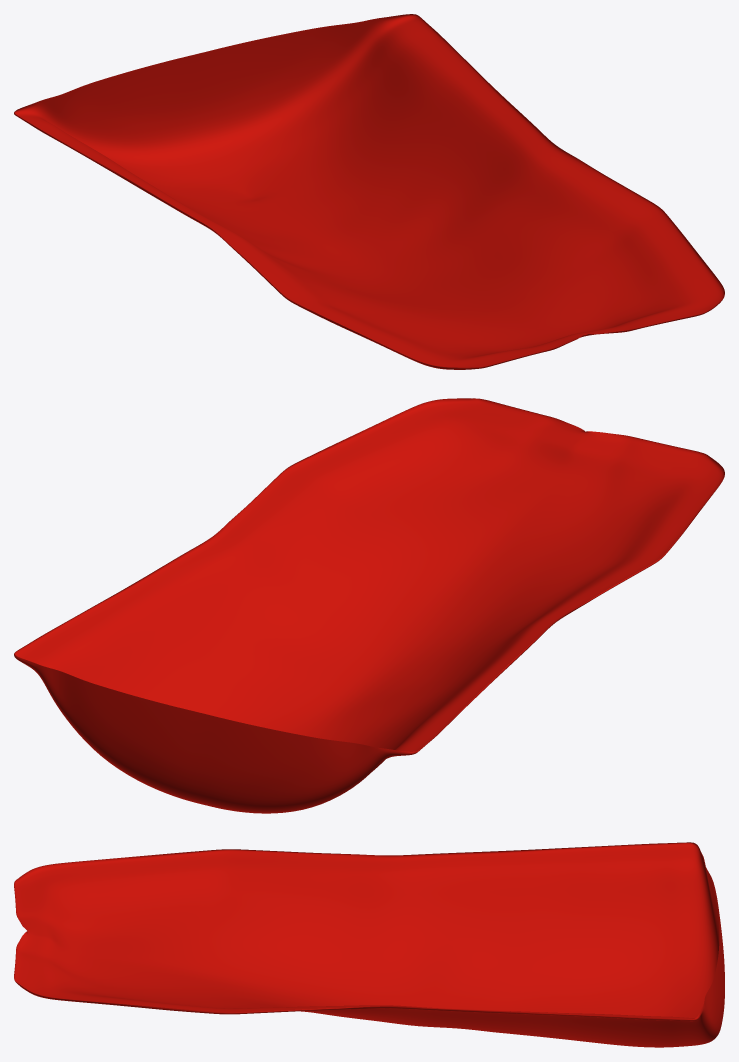
The picture shows the model from 3 angles, top to bottom: view 1: azimuth 30°, elevation 25°; view 2: azimuth 150°, elevation 25°; view 3: azimuth 270°, elevation 25°; orthographic projection. The views are drawn at different scales.
Bounding box in the file's own units: 0.575 × 0.1466 × 0.9752.
